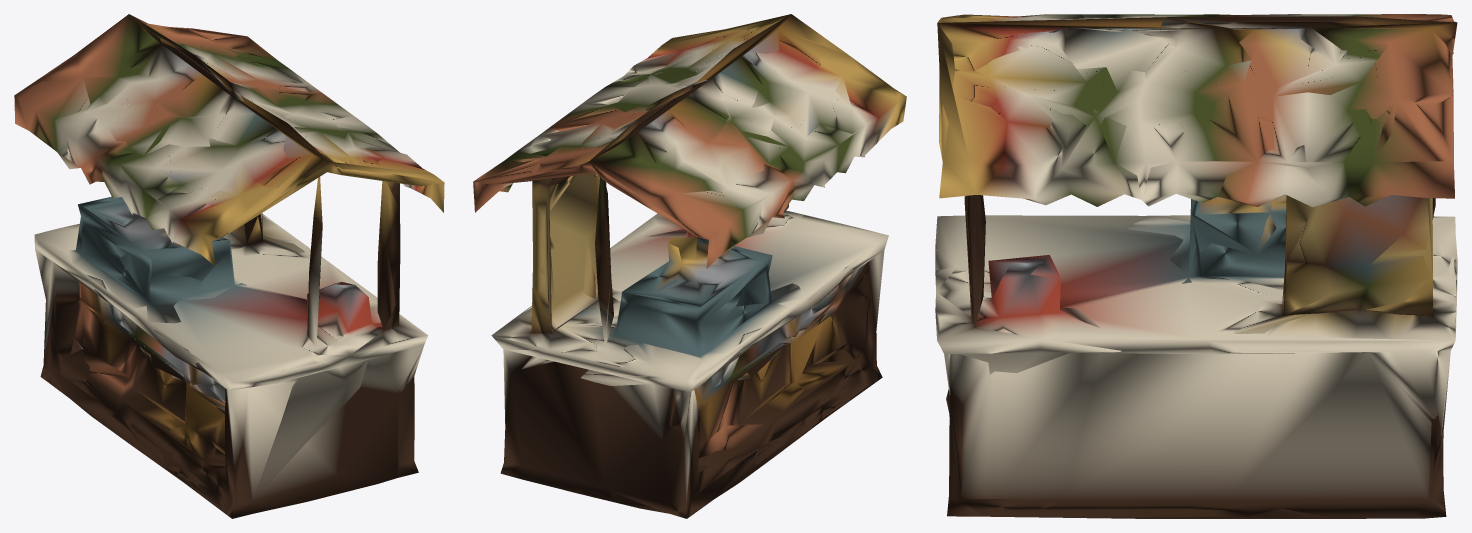
The model's file is gen3d-food-kiosk-lod0.glb.
The picture shows the model from 3 angles, left to right: view 1: azimuth 30°, elevation 25°; view 2: azimuth 150°, elevation 25°; view 3: azimuth 270°, elevation 25°; orthographic projection. The views are drawn at different scales.
Parts seen in each view (by area): view 1: part_0; view 2: part_0; view 3: part_0.
Part boxes in pixels (x1=…): part_0: x1=14, y1=14, x2=444, y2=518; part_0: x1=473, y1=14, x2=906, y2=518; part_0: x1=935, y1=14, x2=1457, y2=518.
Size of the model in its own units: 0.7075 by 0.9792 by 1.05.
